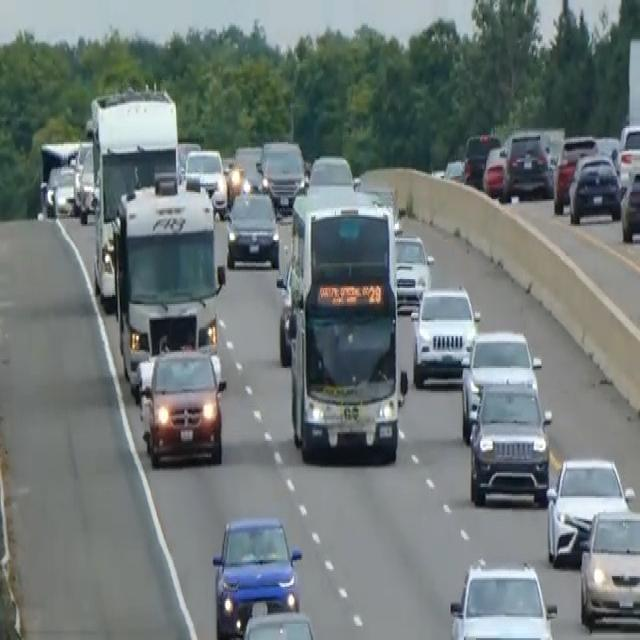bus: (282, 183, 406, 464), (111, 178, 226, 394), (87, 83, 179, 310)
car: (211, 512, 303, 638), (468, 375, 552, 507), (137, 345, 226, 467), (545, 453, 631, 567), (460, 327, 541, 443), (448, 556, 557, 638), (578, 503, 639, 631), (409, 282, 480, 388), (225, 187, 279, 270), (567, 149, 621, 224), (552, 134, 598, 214), (502, 130, 552, 201), (257, 137, 305, 208), (38, 139, 80, 217), (393, 231, 433, 308), (184, 146, 227, 215), (234, 608, 324, 638), (462, 130, 500, 187), (307, 151, 354, 190), (614, 121, 639, 188), (231, 142, 263, 192), (76, 148, 97, 224), (481, 142, 509, 198), (620, 164, 639, 242), (52, 162, 78, 217)
